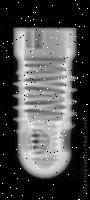Camlog: (13, 27, 79, 180)
